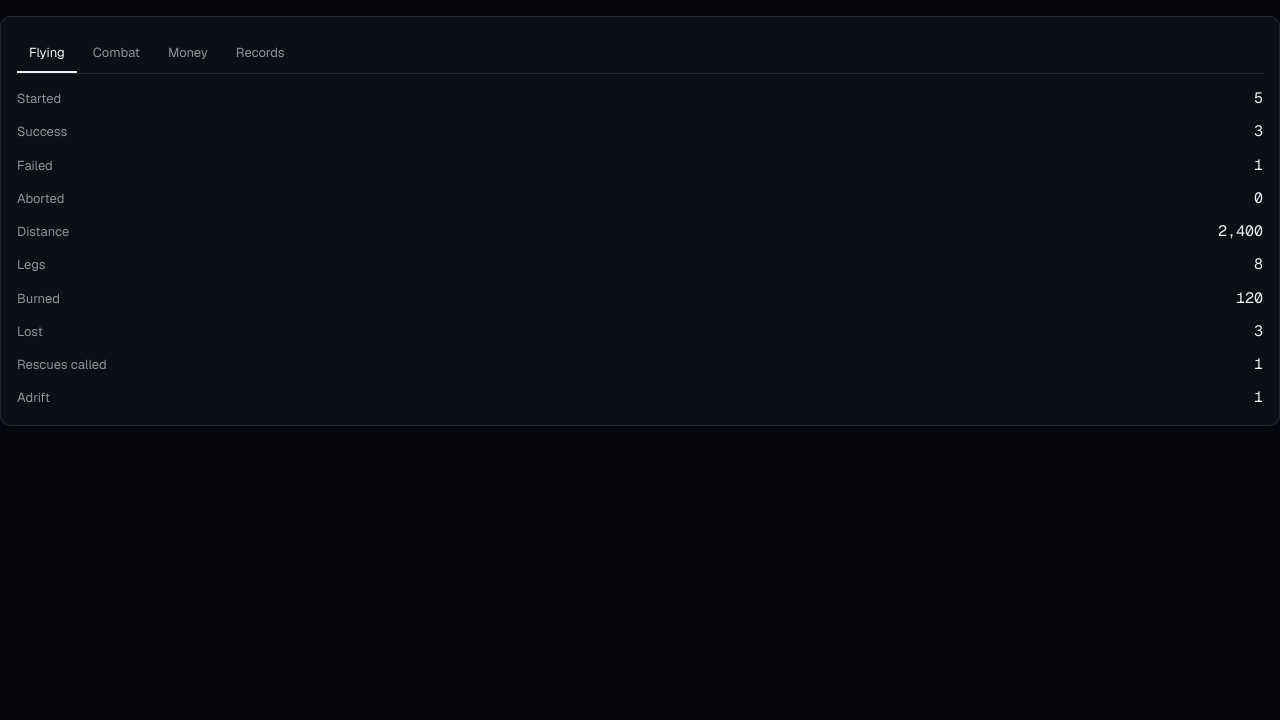
MyStats › switches tabs
The width and height of the screenshot is (1280, 720).
Click the tab "Combat" at (116, 53), box x1=81 y1=33 x2=152 y2=73
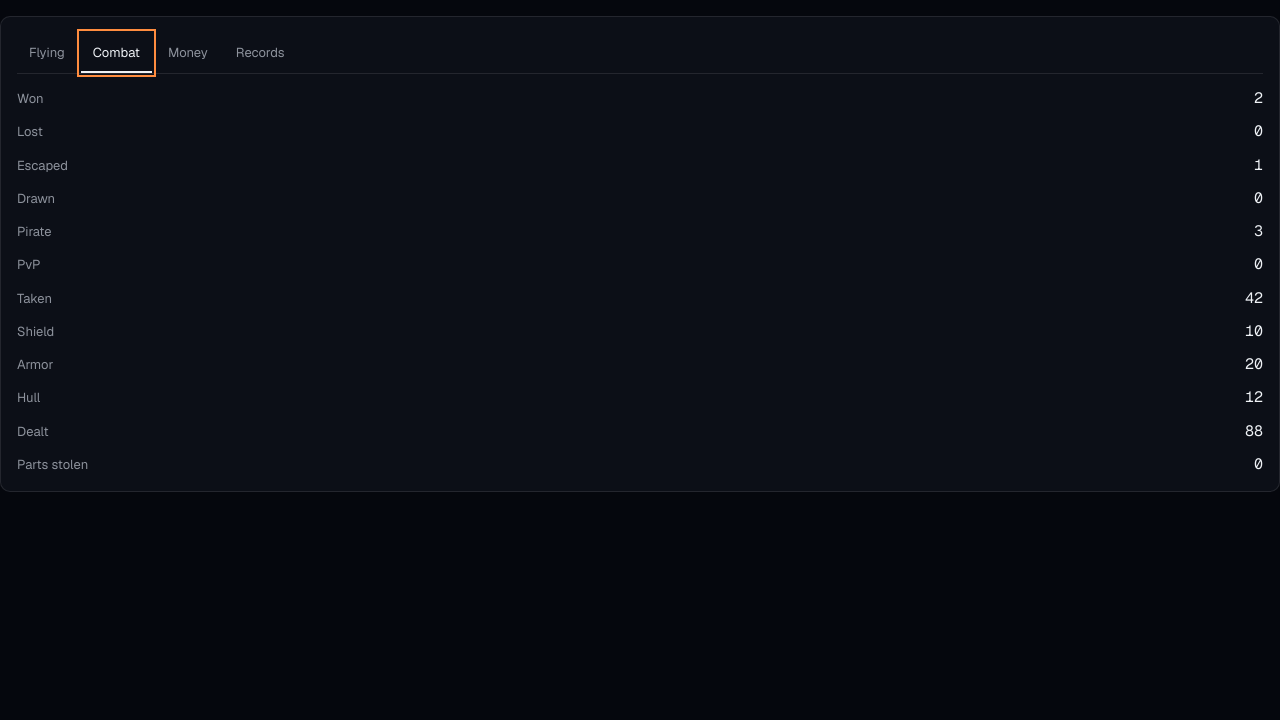
Check: the text "Won" is shown, box x1=17 y1=89 x2=44 y2=109
Click the tab "Records" at (260, 53), box x1=224 y1=33 x2=297 y2=73
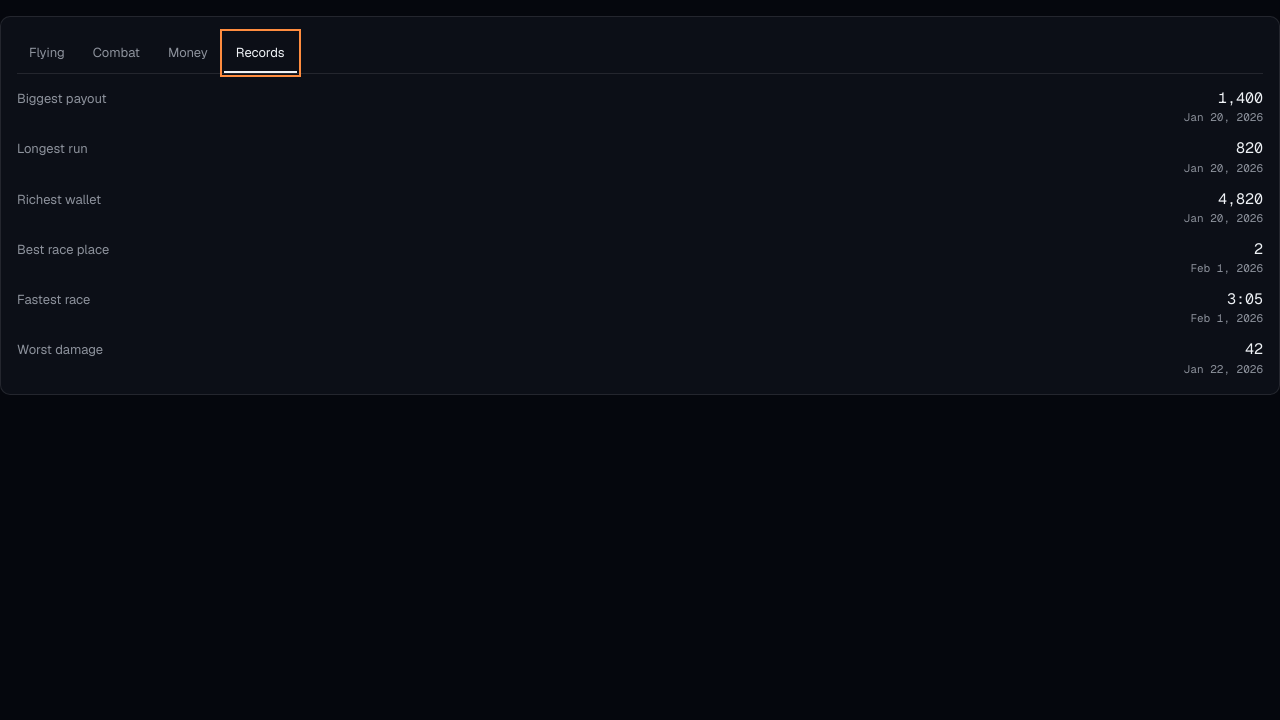
Check: the text "Biggest payout" is shown, box x1=17 y1=89 x2=107 y2=109
